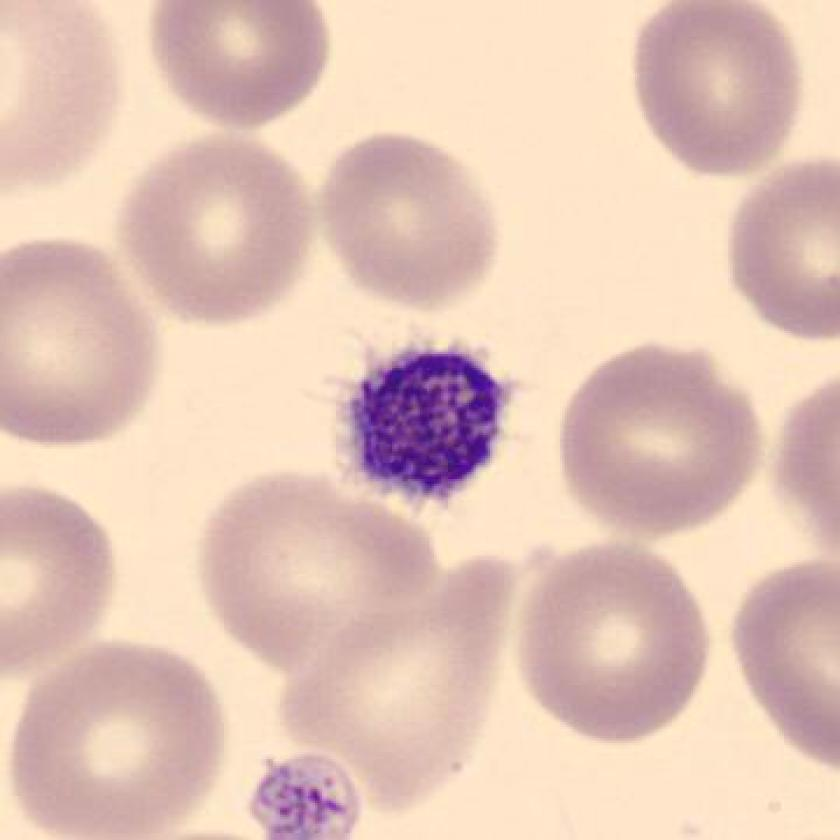platelets: (335, 339, 512, 512), (239, 746, 363, 840)
